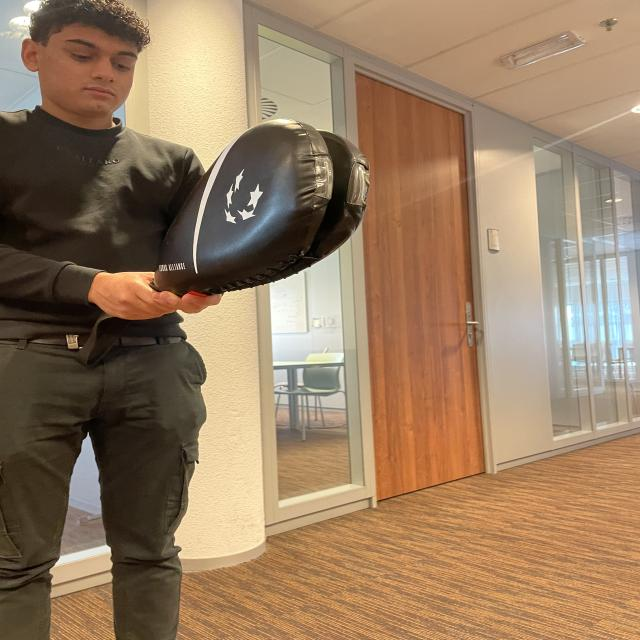paddle: (178, 121, 370, 284)
